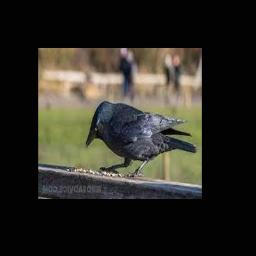Crow: (86, 100, 197, 177)
